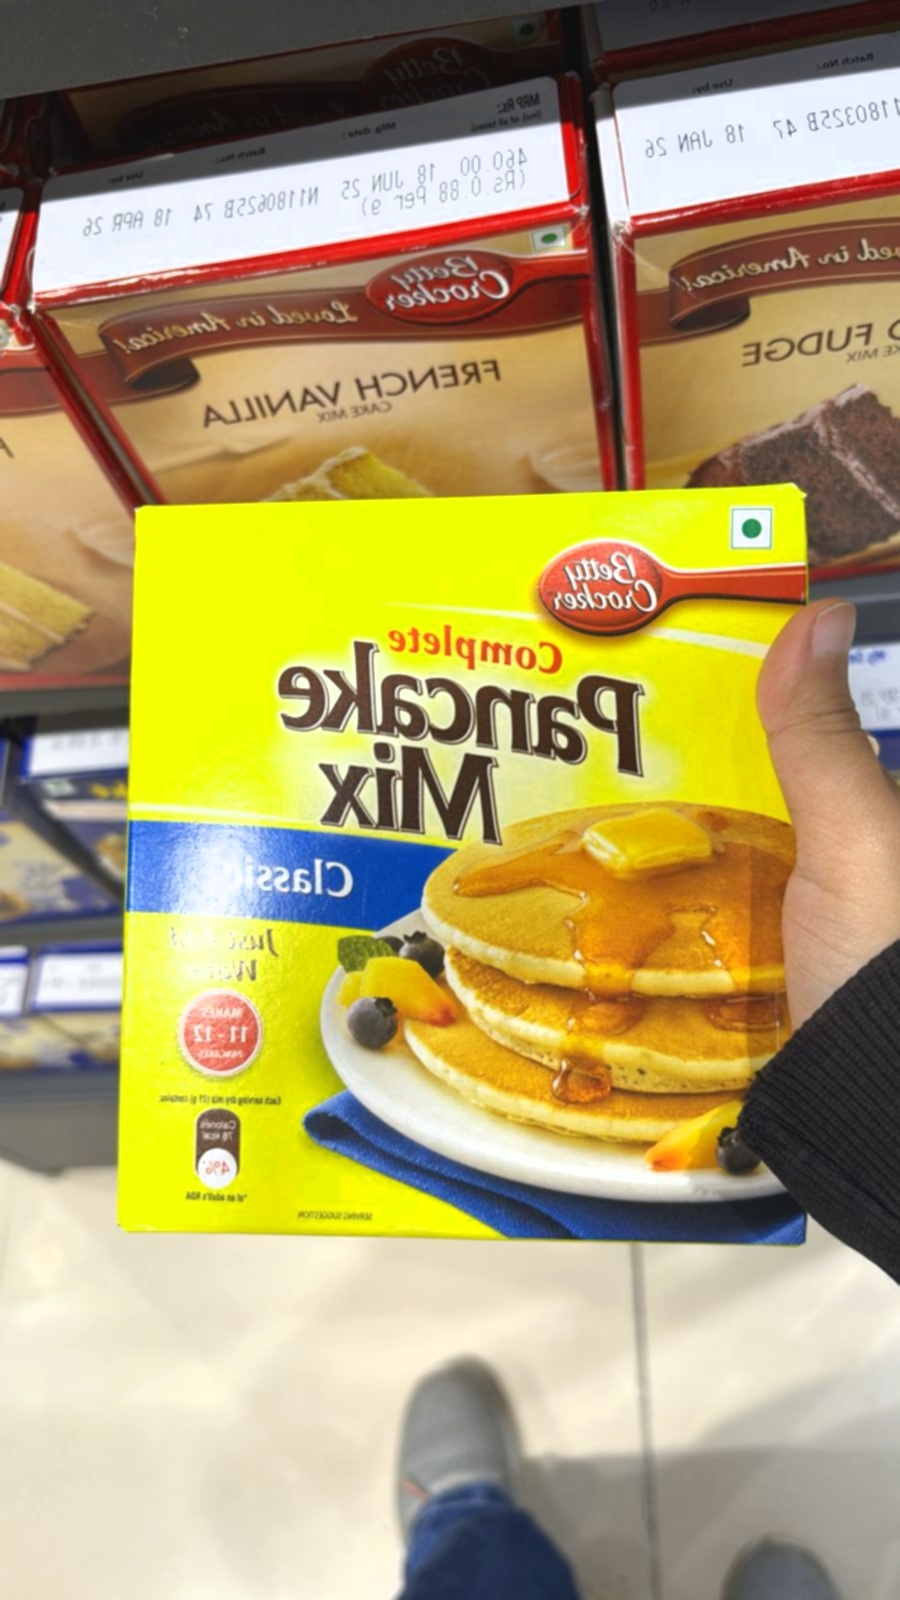Betty Crocker Pancake Mix: (100, 475, 812, 1262)
